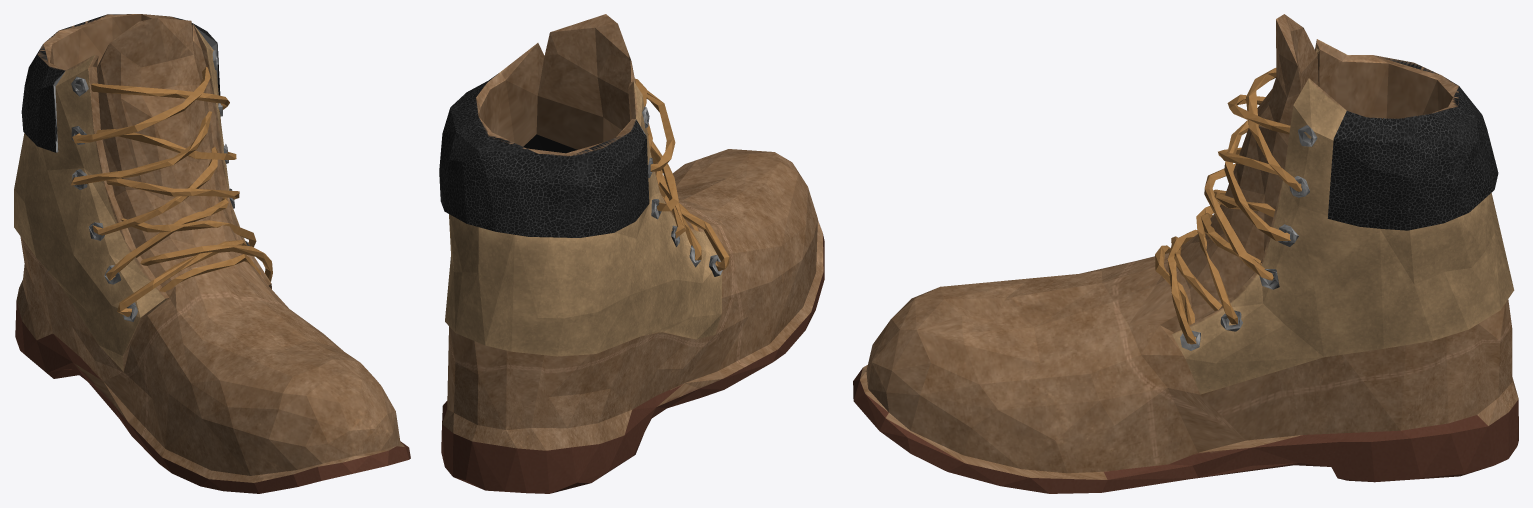
Rendered from Timb.fbx.
The picture shows the model from 3 angles, left to right: view 1: azimuth 30°, elevation 25°; view 2: azimuth 150°, elevation 25°; view 3: azimuth 270°, elevation 25°; orthographic projection. The views are drawn at different scales.
Parts seen in each view (by area): view 1: Timb; view 2: Timb; view 3: Timb.
Part boxes in pixels (x1,y1,x2,y2): Timb: (14, 14, 410, 493); Timb: (439, 14, 824, 493); Timb: (853, 14, 1518, 493).
Bounding box in the file's own units: 17.14 × 32.07 × 46.18.
